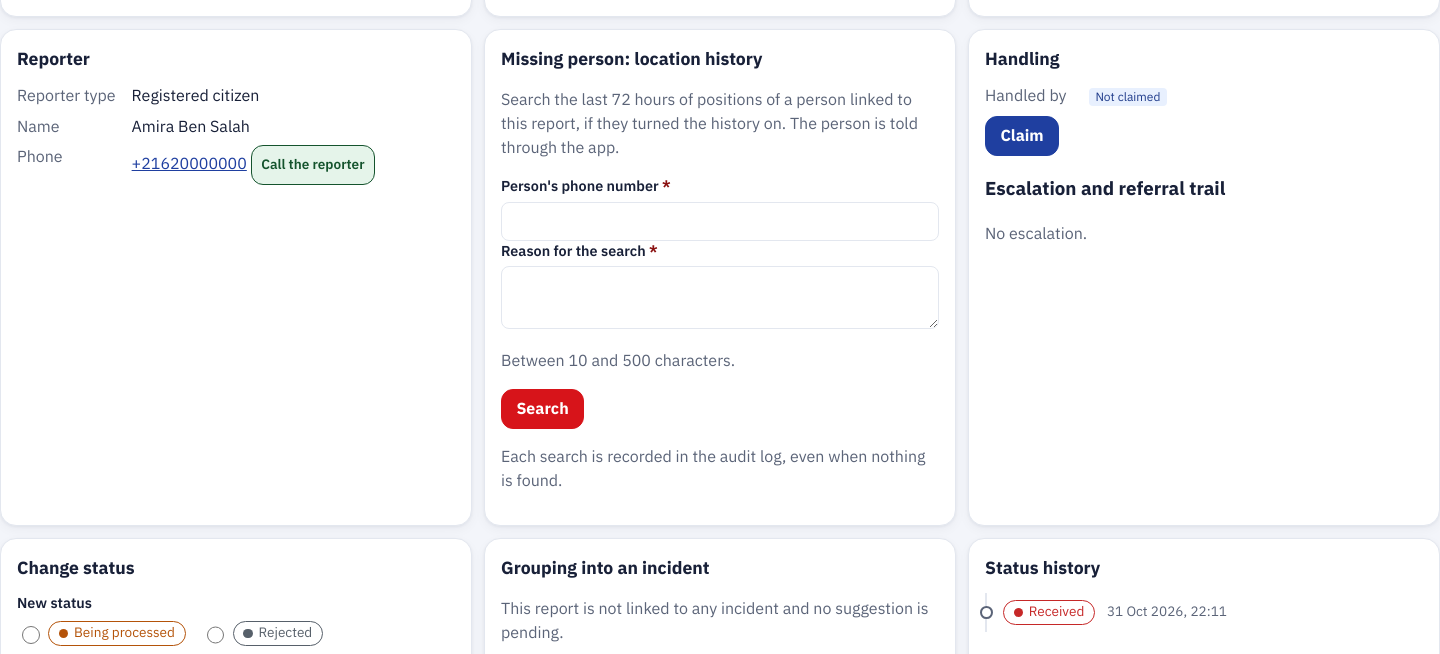
Report detail, phase B2 › searches the history with a phone and a reason, newest position first
(page scrolled)
Step 1. Click the button "Search" → (543, 409), box [501, 389, 584, 429]
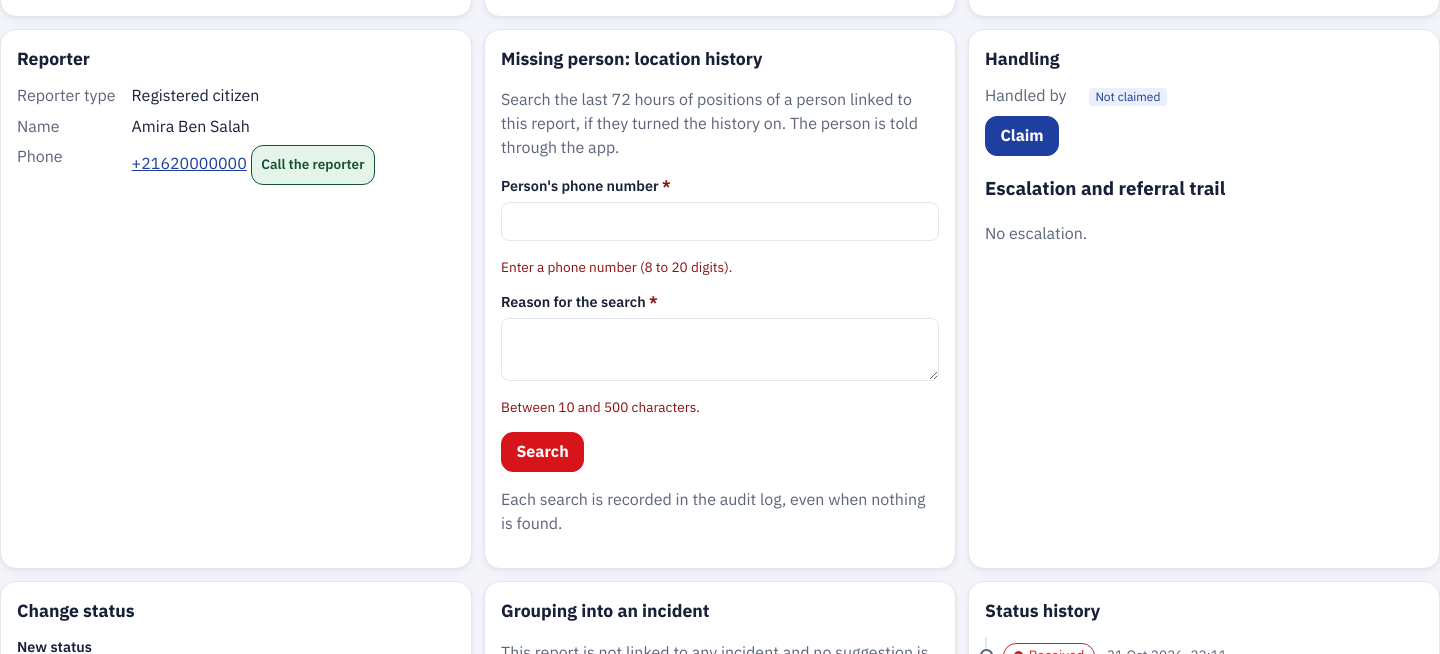
Check: the text "Enter a phone number (8 to 20 digits)." is shown, box [501, 257, 732, 278]
Step 2. Type "20 123 456" into the field labelled "Person's phone number" → (720, 221), box [501, 202, 939, 241]
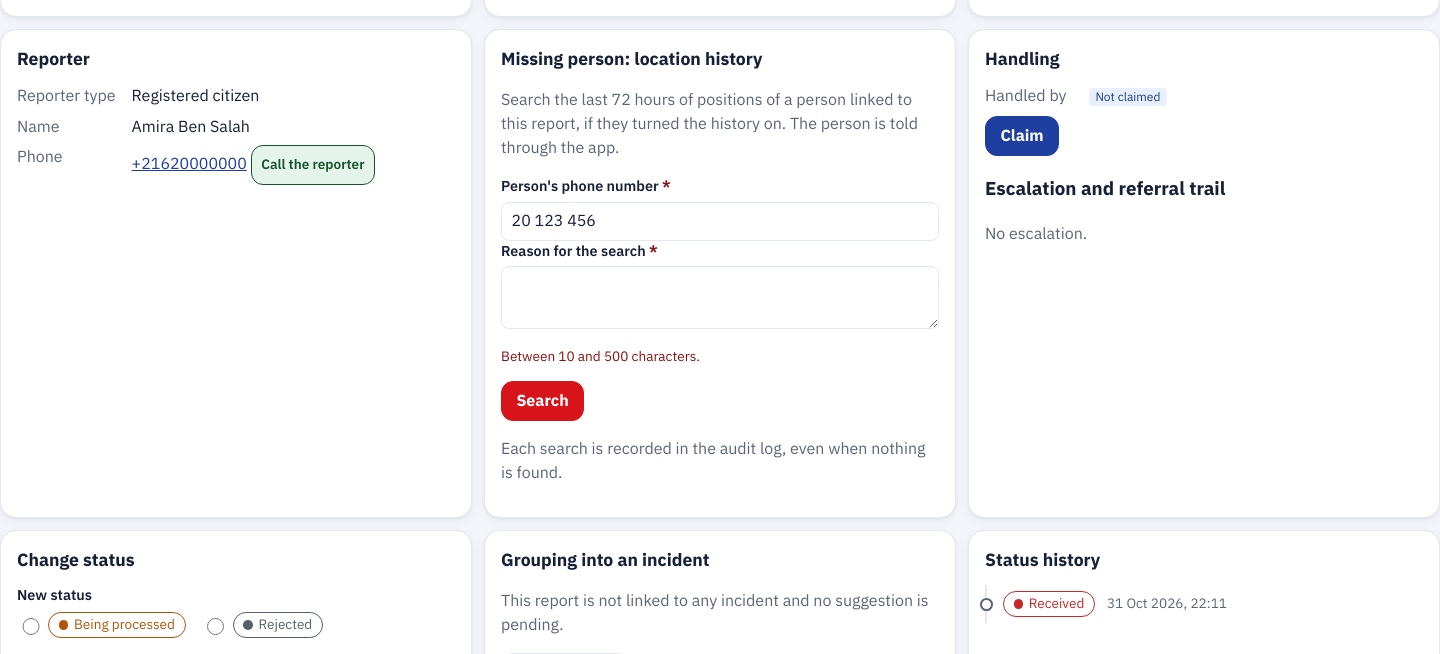
Step 3. Type "Hiker missing since last night, family call" into the text box labelled "Reason for the search" → (720, 298), box [501, 266, 939, 329]
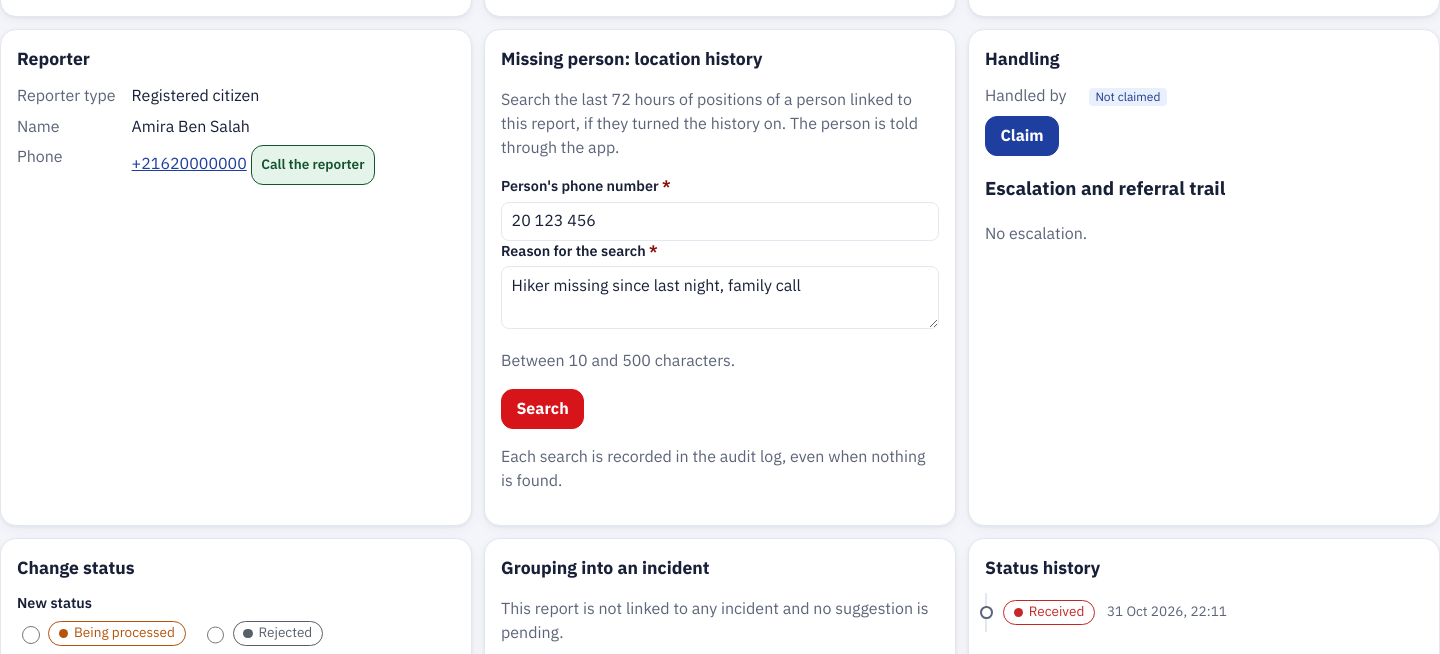
Step 4. Click the button "Search" → (543, 409), box [501, 389, 584, 429]
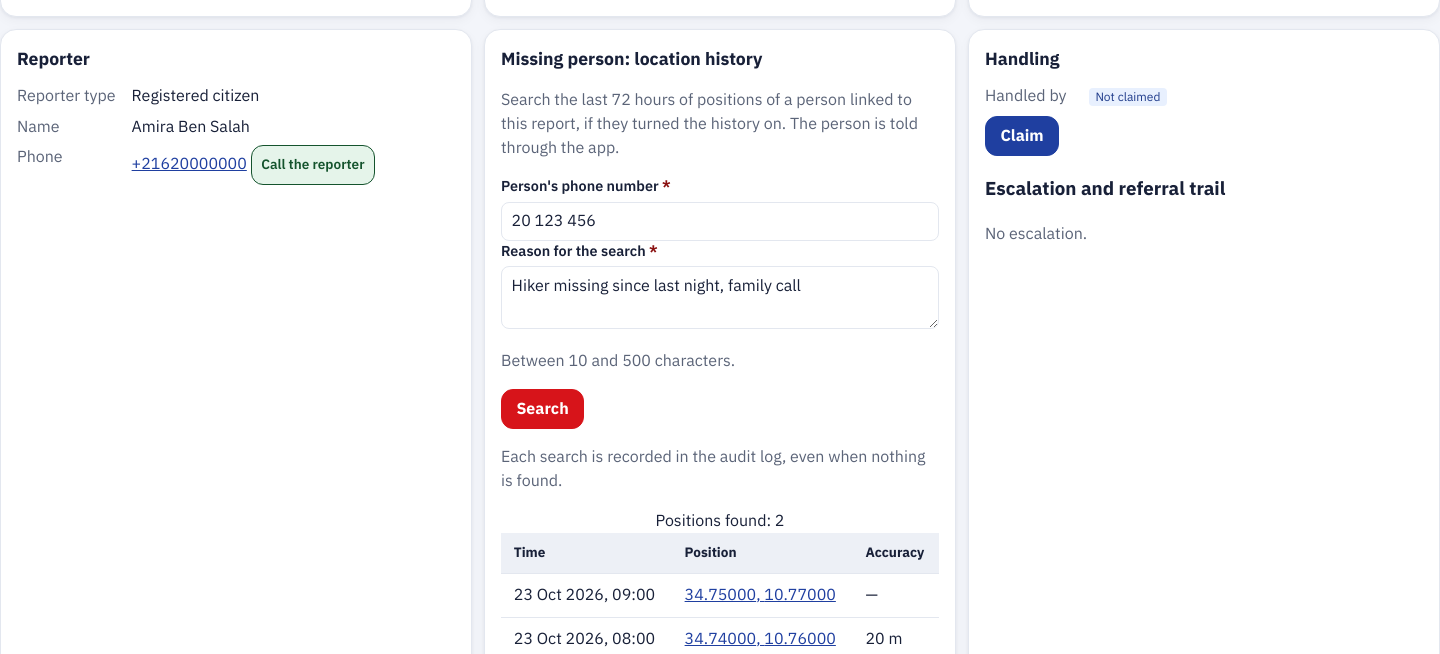
Check: the text "Positions found: 2" is shown, box [656, 509, 784, 533]
Check: the link "34.75000, 10.77000" is shown, box [685, 583, 836, 607]
Check: the link "34.74000, 10.76000" is shown, box [685, 627, 836, 651]
